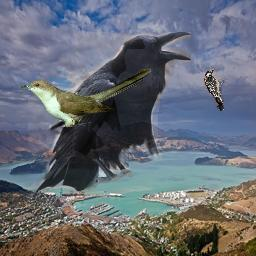Crow: (28, 32, 191, 201)
Cuckoo: (20, 67, 151, 127)
Woodpecker: (202, 67, 230, 111)
